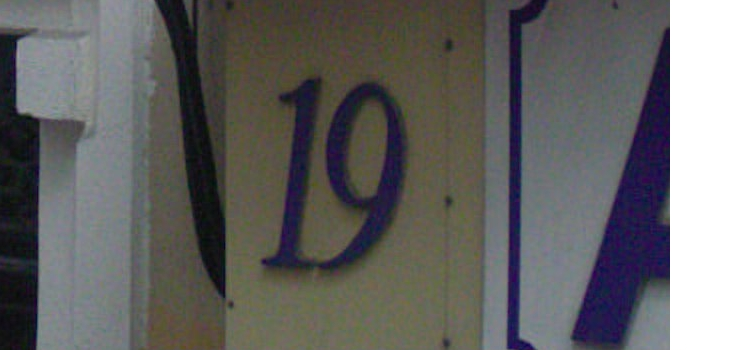digit: (323, 81, 419, 300), (246, 77, 327, 296)
